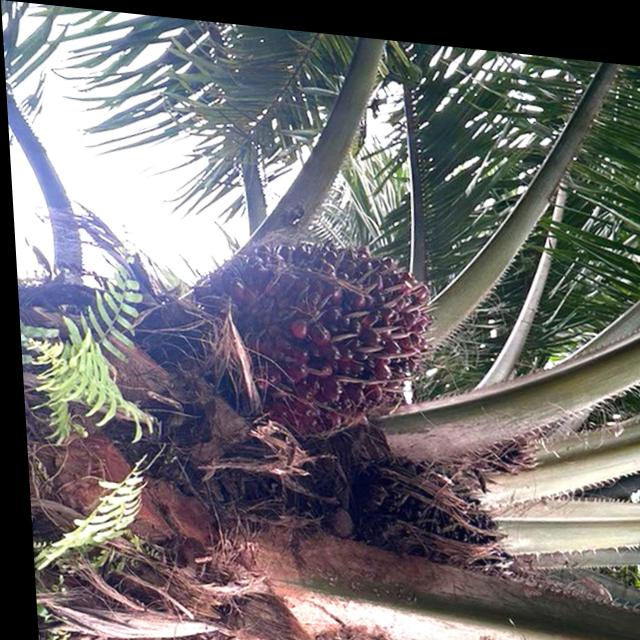ripe: (196, 206, 457, 463)
